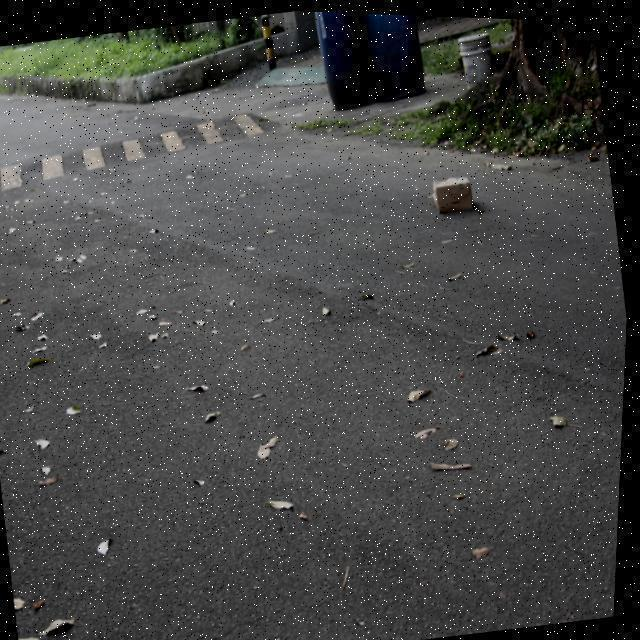Paper_Bag: (434, 170, 476, 212)
